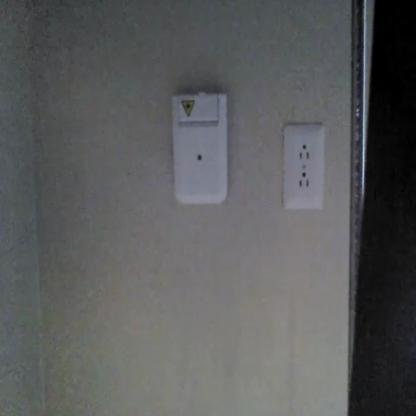OUTLET: (284, 123, 326, 211)
